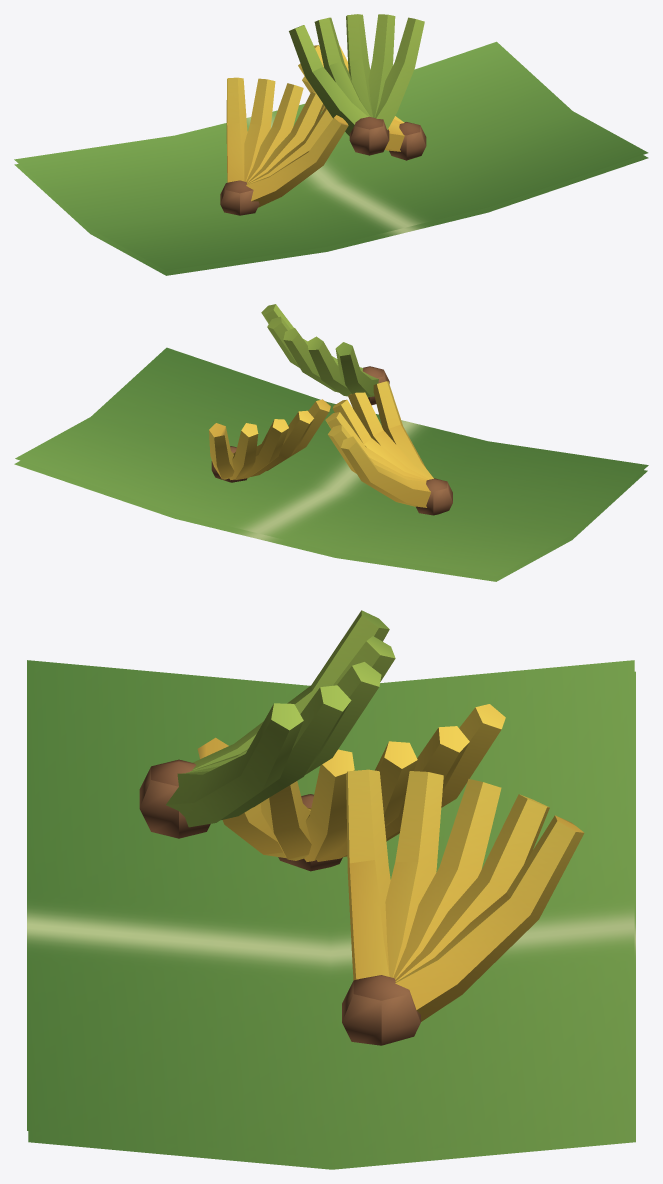
The model's file is market_bananas.glb.
3 renders of one model, top to bottom at view 1: azimuth 30°, elevation 25°; view 2: azimuth 150°, elevation 25°; view 3: azimuth 270°, elevation 25°, orthographic. The views are drawn at different scales.
Visible parts, largest first — view 1: market_bananas; view 2: market_bananas; view 3: market_bananas.
Boxes of the visible parts, <box> form: market_bananas: <box>14,14,648,275</box>; market_bananas: <box>14,304,648,581</box>; market_bananas: <box>27,610,635,1169</box>.
Size of the model in its own units: 1.1 by 0.3593 by 0.6012.
1 material, 1 textured.
